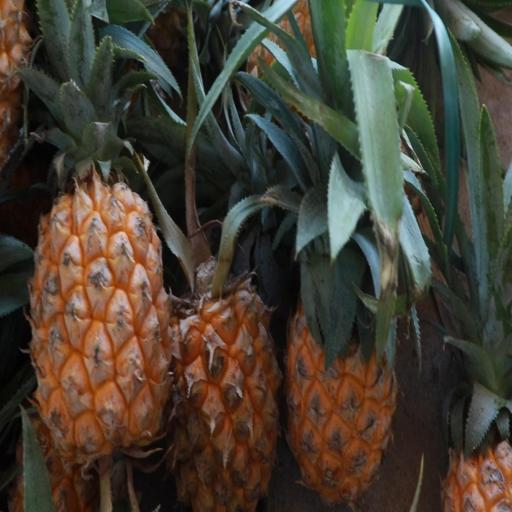Pineapple - v8 v1: (25, 110, 176, 470), (280, 187, 402, 511), (159, 247, 284, 512), (437, 293, 512, 510)
